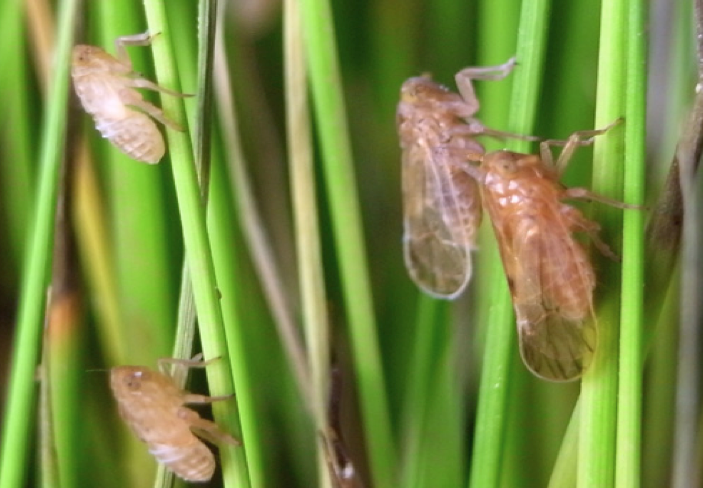Brown_hopper: (478, 135, 655, 395), (393, 60, 506, 304), (55, 30, 193, 168), (86, 351, 237, 474)
